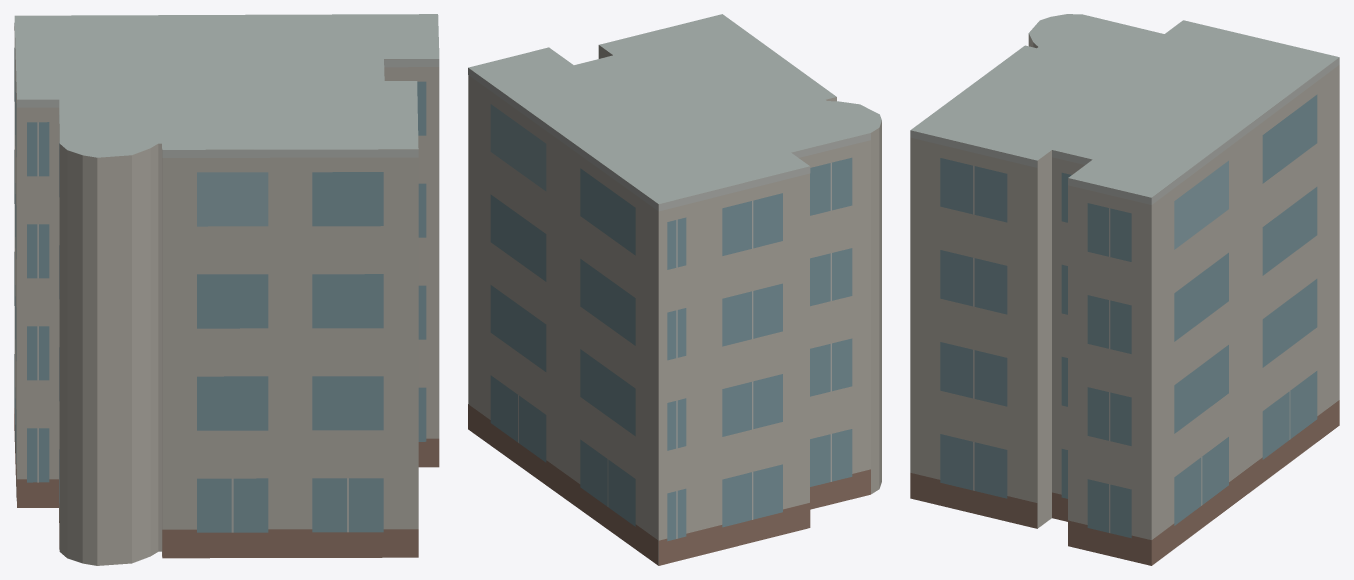
Rendered from survey-upis-32938327.glb.
The picture shows the model from 3 angles, left to right: view 1: azimuth 30°, elevation 25°; view 2: azimuth 150°, elevation 25°; view 3: azimuth 270°, elevation 25°; orthographic projection. The views are drawn at different scales.
Parts seen in each view (by area): view 1: survey-upis-32938327.tmp; view 2: survey-upis-32938327.tmp; view 3: survey-upis-32938327.tmp.
Part boxes in pixels (x1,y1,x2,y2): survey-upis-32938327.tmp: (14,14,439,565); survey-upis-32938327.tmp: (468,14,881,565); survey-upis-32938327.tmp: (910,14,1339,565).
Bounding box in the file's own units: 13.06 × 12.2 × 12.9.
